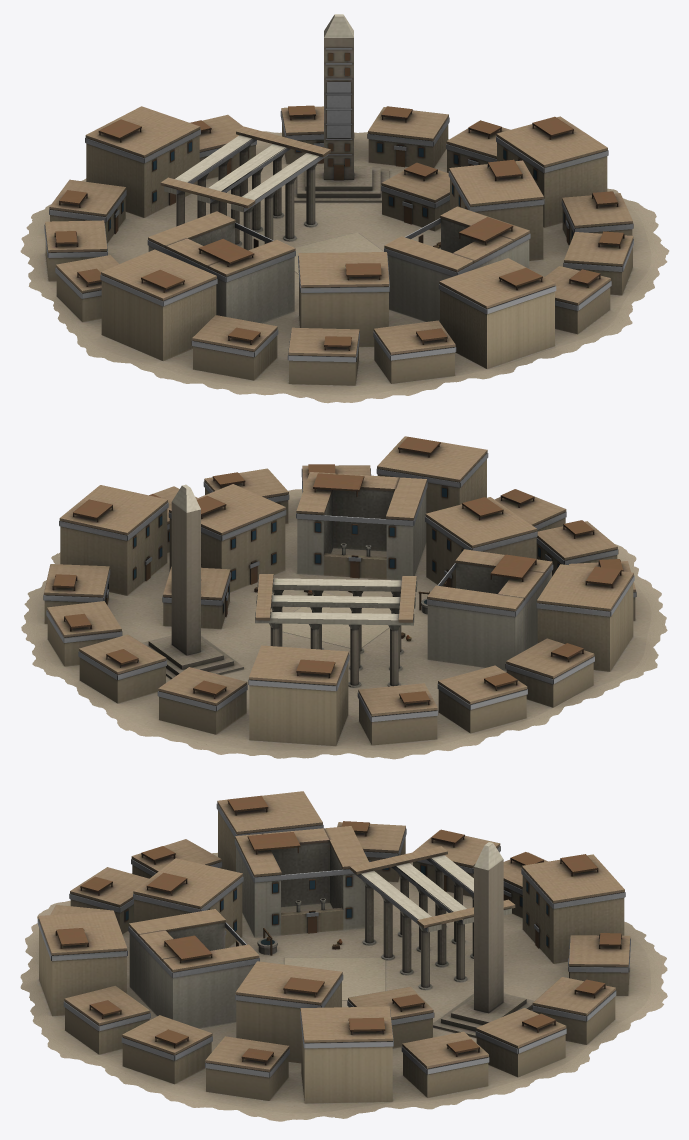
File: classical-town-big-a-nile.glb
3 renders of one model, top to bottom at view 1: azimuth 30°, elevation 25°; view 2: azimuth 150°, elevation 25°; view 3: azimuth 270°, elevation 25°, orthographic.
Visible parts, largest first — view 1: LOD0; view 2: LOD0; view 3: LOD0.
Boxes of the visible parts, left/top/right/bottom form: LOD0: left=20, top=14, right=669, bottom=403; LOD0: left=21, top=436, right=667, bottom=759; LOD0: left=20, top=791, right=667, bottom=1121.
Size of what is drawn, in the model's own units: 8.08 by 2.3 by 7.88.
3 materials, 3 textured.
